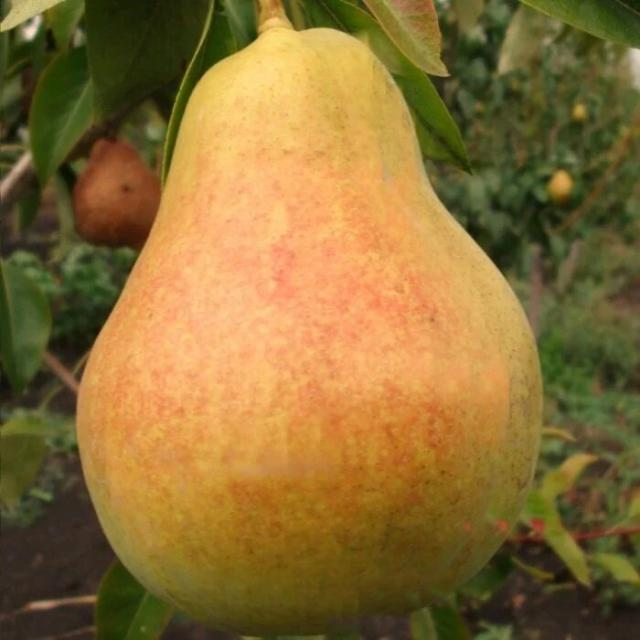pear: (67, 10, 551, 633)
